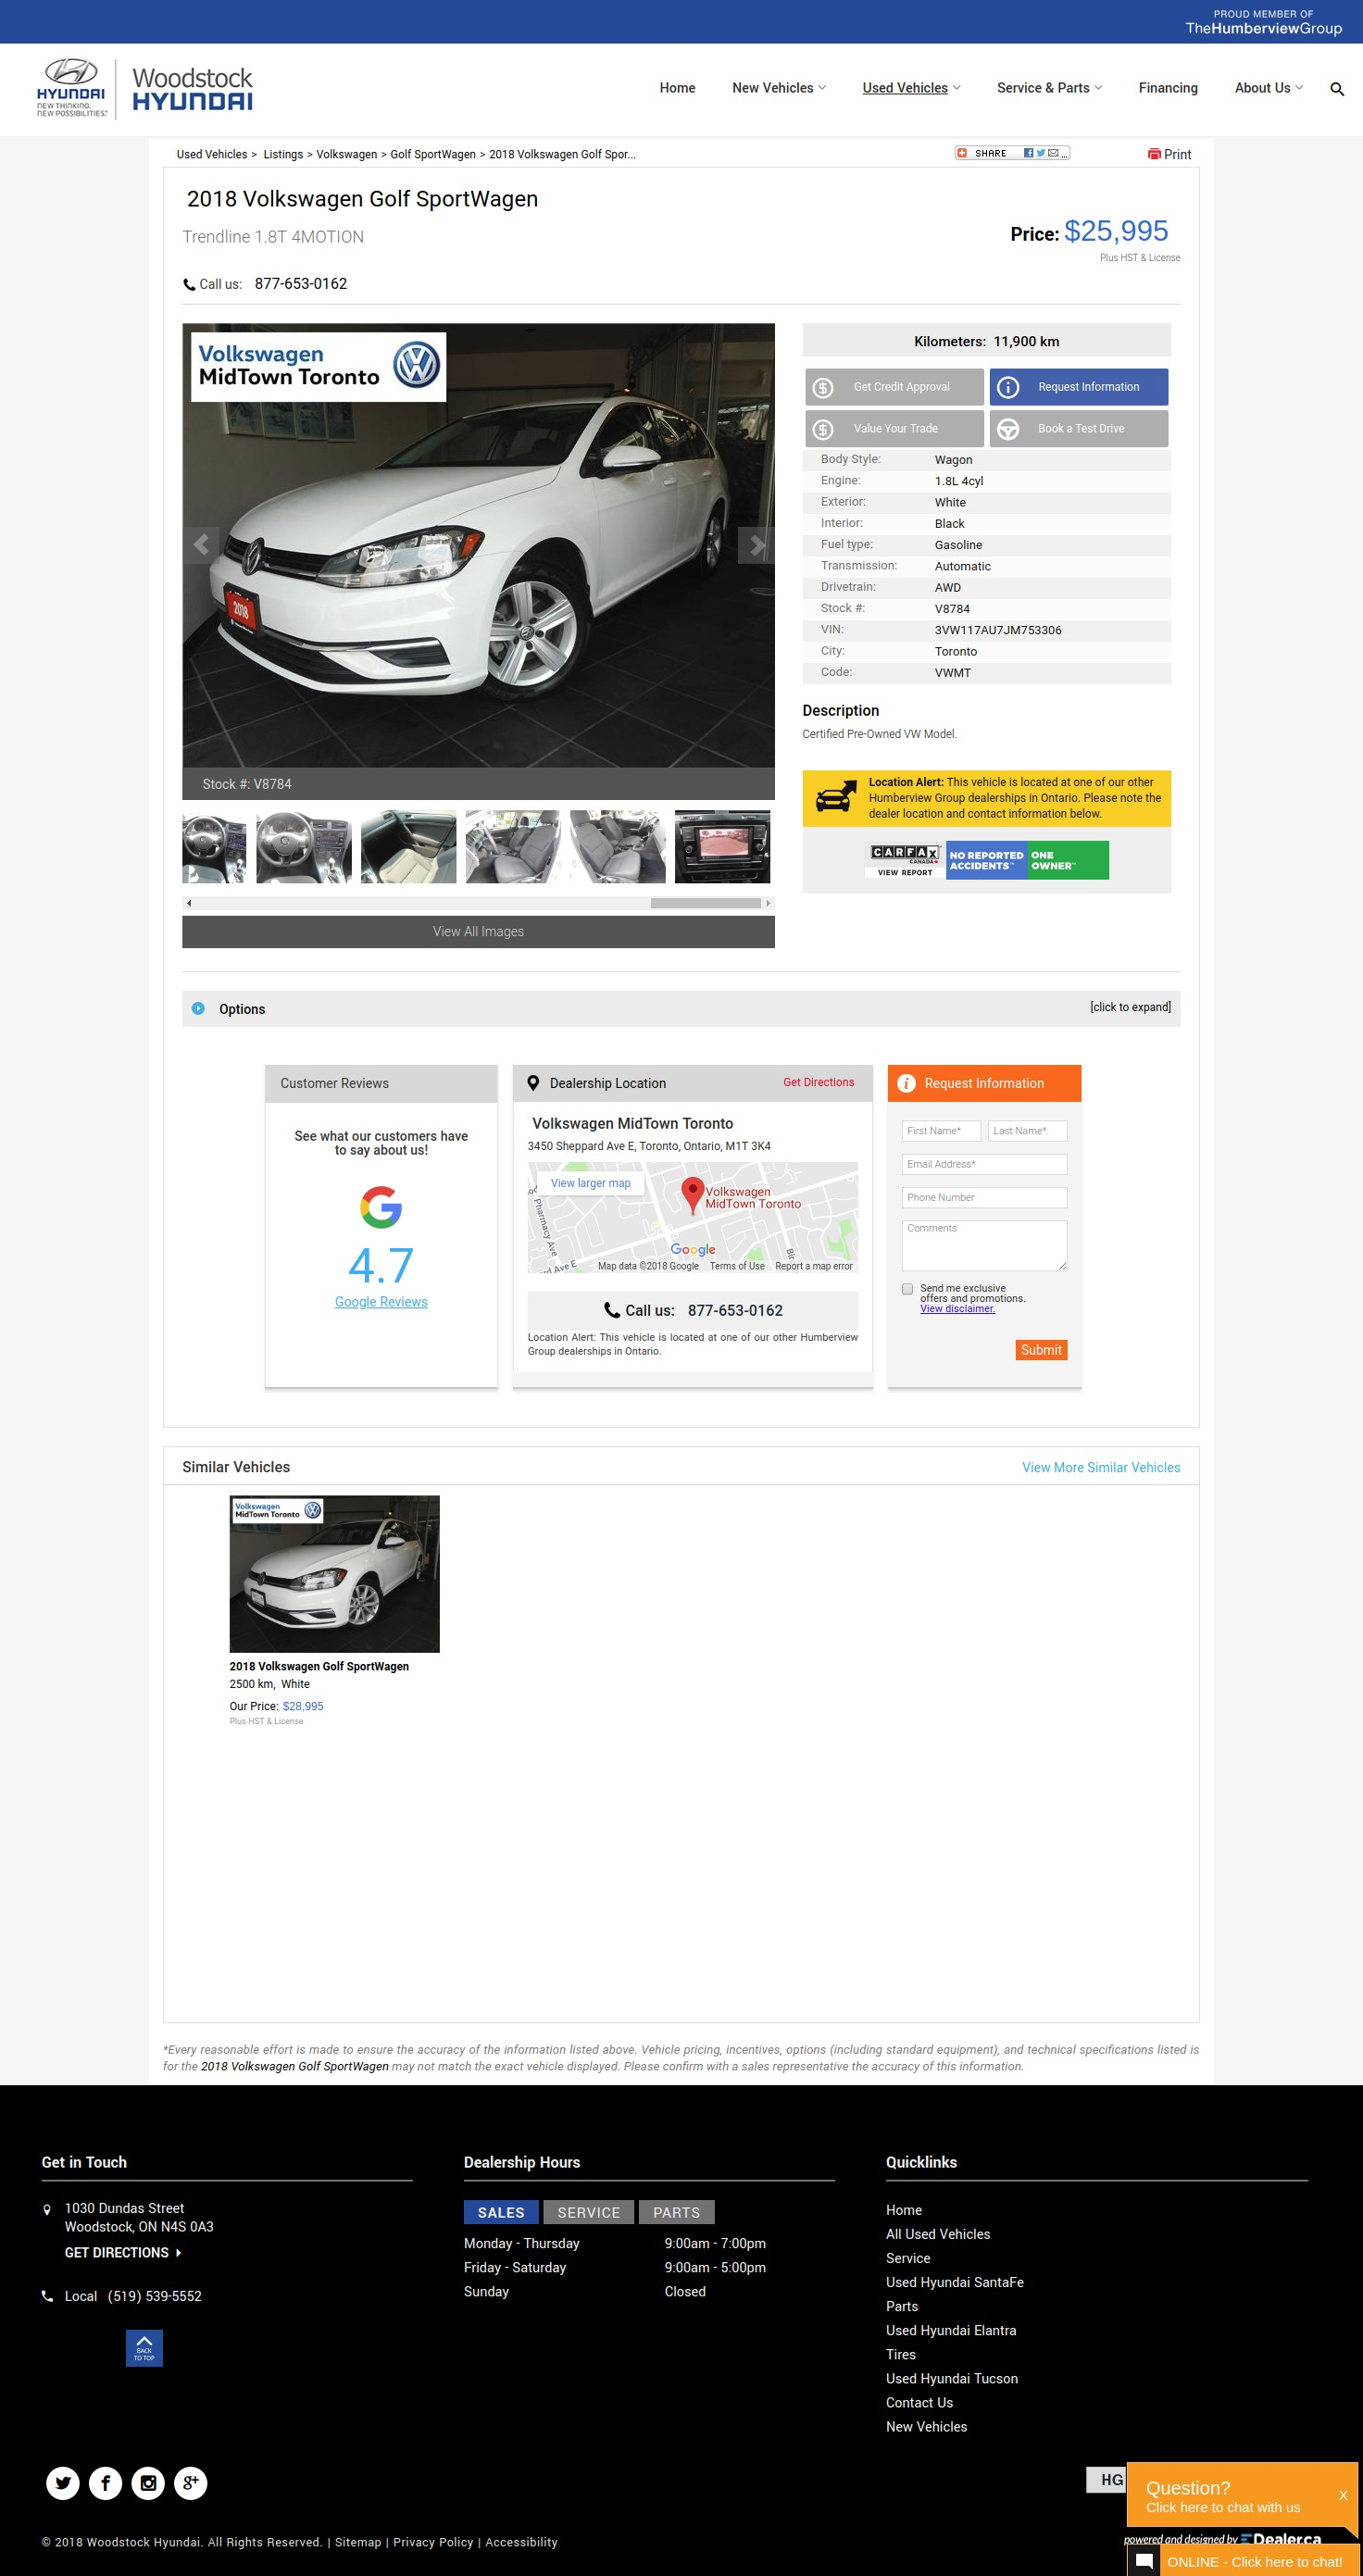car: (767, 900, 772, 908)
